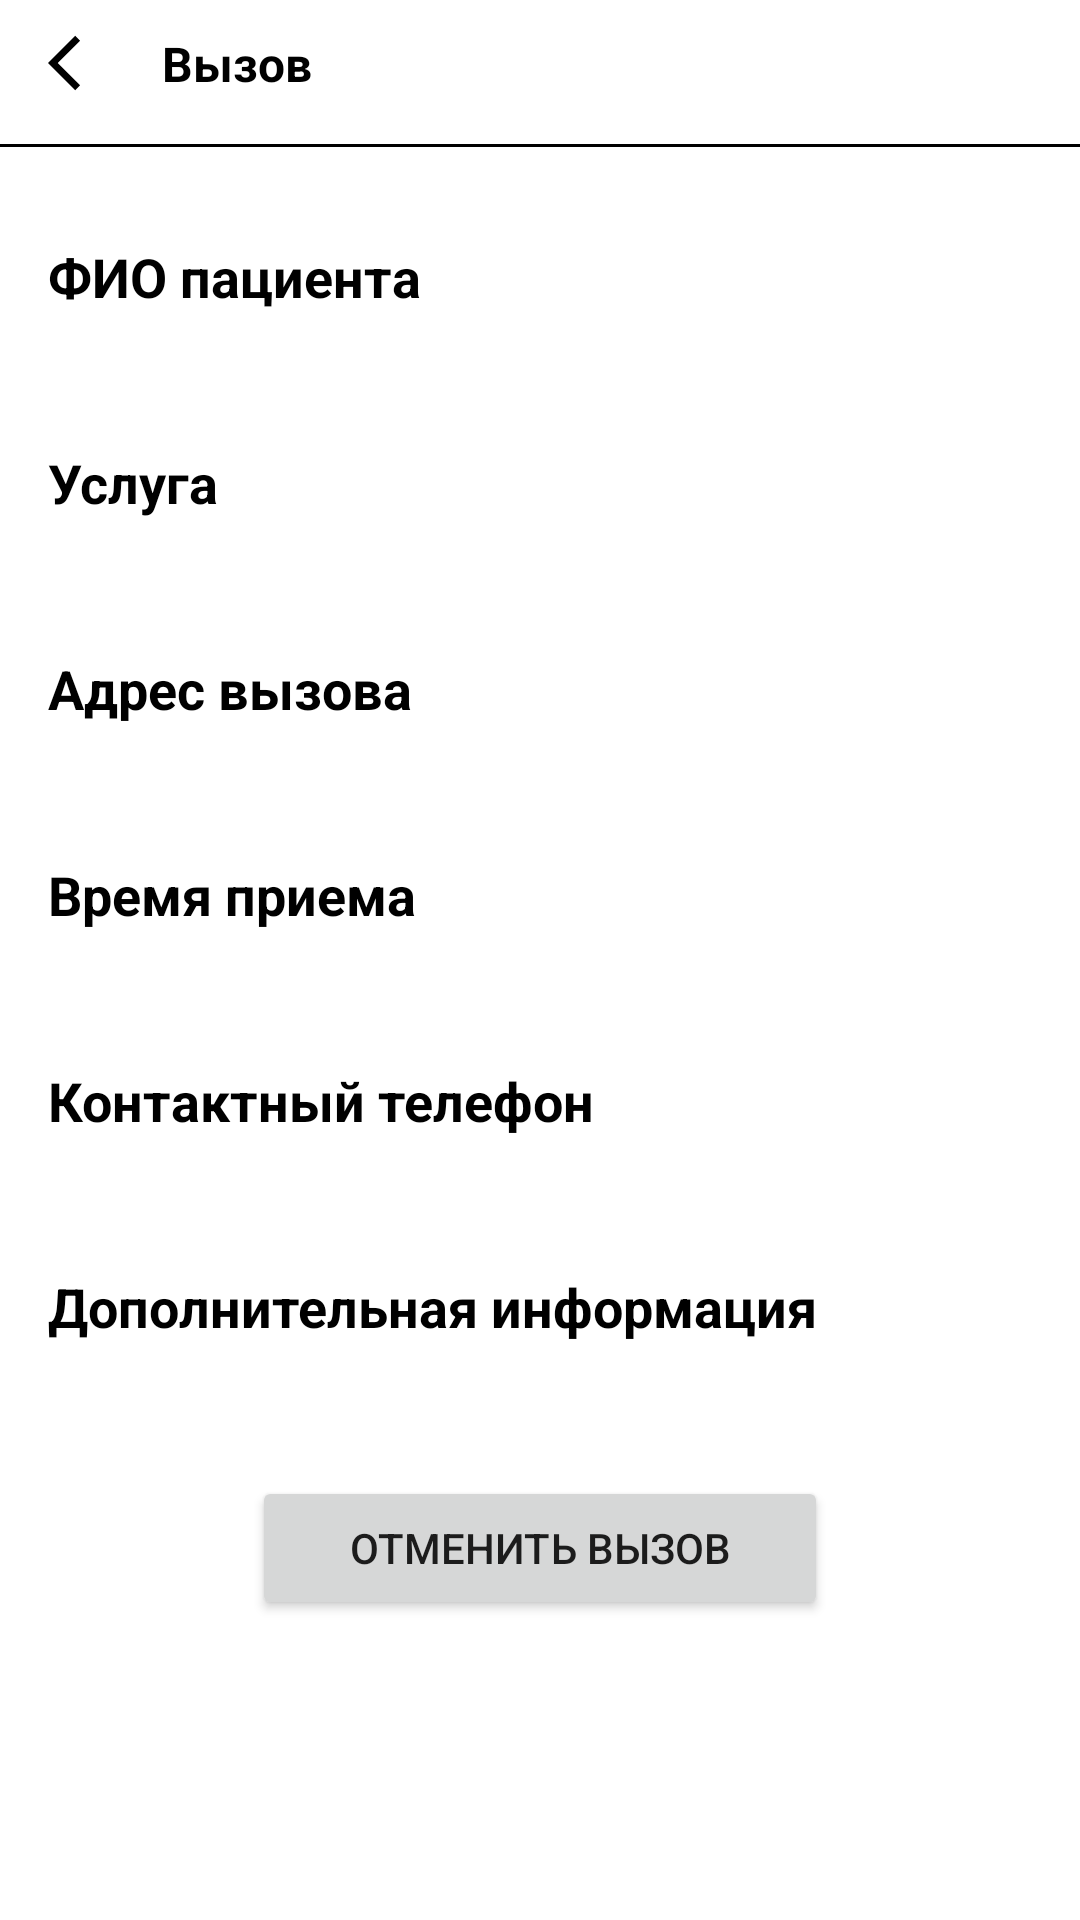

Where icons sit on this 1080×1920 app screen, as {"x1": x1, "y1": y1, "x2": x2, "y2": y2}:
back arrow: {"x1": 48, "y1": 36, "x2": 80, "y2": 90}
